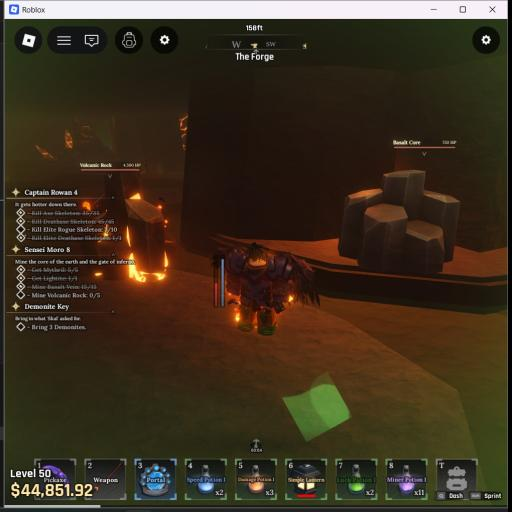player: (224, 243, 319, 335)
rock: (338, 170, 459, 274), (101, 172, 165, 274)
